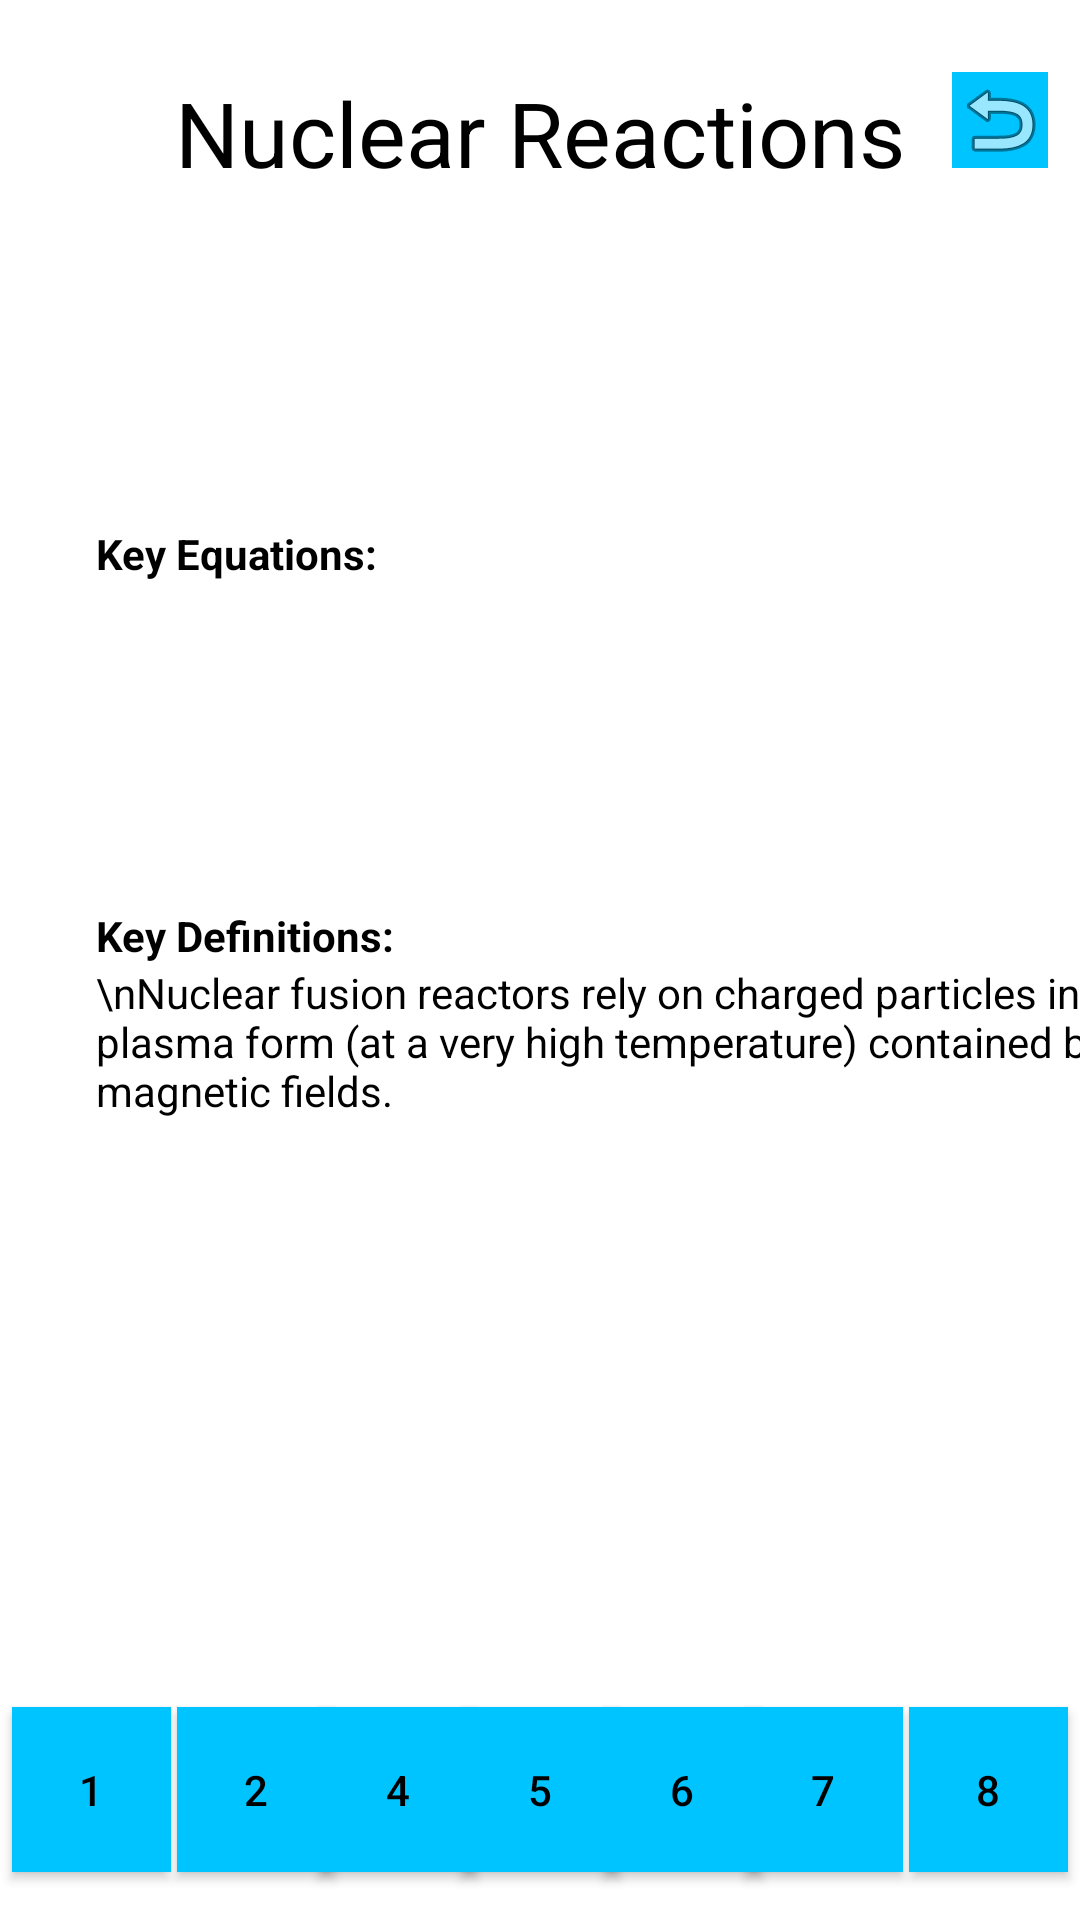

Where to tap for icons on this 1080px×1920px app screen, as (x,y):
revert: (1000,120)
